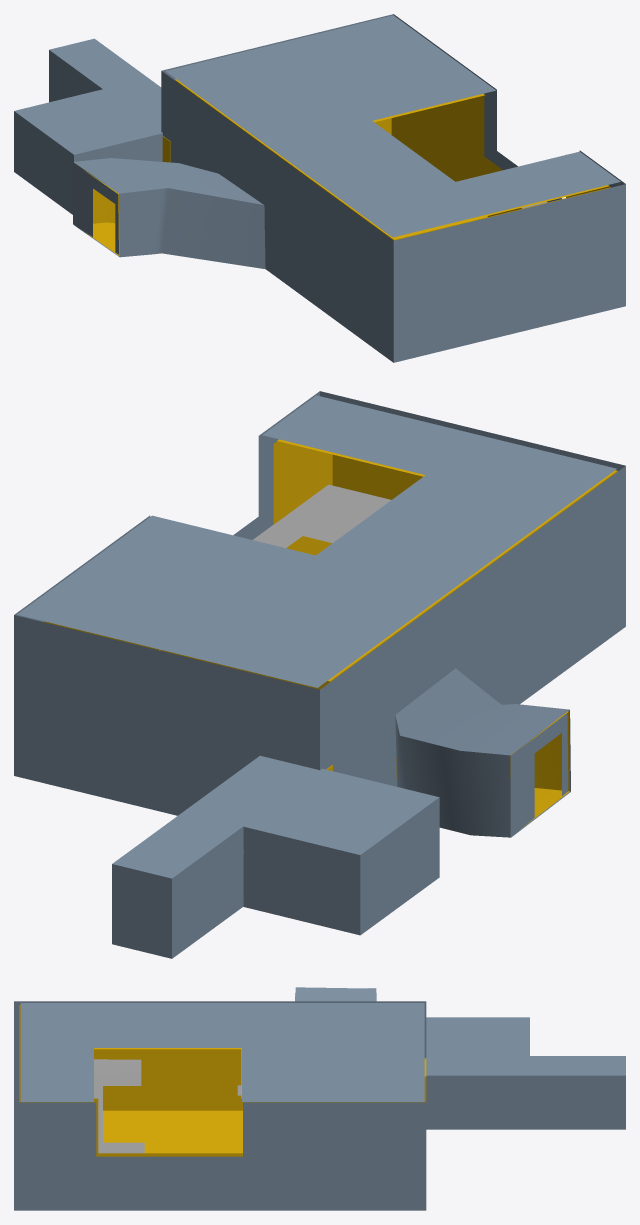
File: ArtGallery.fbx
The picture shows the model from 3 angles, top to bottom: view 1: azimuth 30°, elevation 25°; view 2: azimuth 150°, elevation 25°; view 3: azimuth 270°, elevation 25°; orthographic projection. The views are drawn at different scales.
Visible parts, largest first — view 1: polySurface22, polySurface11, Outside, polySurface23, polySurface20, polySurface16, polySurface10, polySurface19; view 2: polySurface22, polySurface11, polySurface23, Outside, polySurface20, polySurface1, polySurface16, polySurface10, polySurface19; view 3: polySurface22, polySurface11, polySurface20, polySurface23, pCube3, polySurface1, Outside, polySurface19.
Boxes of the visible parts, <box> form: polySurface22: <box>49,14,625,362</box>; polySurface11: <box>165,15,620,237</box>; Outside: <box>73,158,265,269</box>; polySurface23: <box>14,89,162,214</box>; polySurface20: <box>175,80,610,240</box>; polySurface16: <box>73,162,118,254</box>; polySurface10: <box>76,164,119,255</box>; polySurface19: <box>175,79,609,238</box>; polySurface22: <box>14,391,625,958</box>; polySurface11: <box>17,395,616,687</box>; polySurface23: <box>243,768,439,935</box>; Outside: <box>395,668,570,837</box>; polySurface20: <box>44,441,617,901</box>; polySurface1: <box>253,484,391,547</box>; polySurface16: <box>510,713,568,836</box>; polySurface10: <box>396,711,570,826</box>; polySurface19: <box>277,439,616,680</box>; polySurface22: <box>14,1001,625,1210</box>; polySurface11: <box>20,1003,424,1101</box>; polySurface20: <box>19,1005,426,1156</box>; polySurface23: <box>426,1017,529,1055</box>; pCube3: <box>141,1049,241,1085</box>; polySurface1: <box>94,1059,241,1153</box>; Outside: <box>295,987,376,1001</box>; polySurface19: <box>94,1048,241,1098</box>.
Size of the model in its own units: 26.69 by 9.56 by 45.67.
